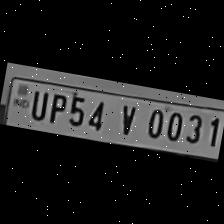0: (139, 104, 167, 140), (161, 106, 185, 142)
1: (200, 112, 223, 148)
3: (180, 108, 205, 146)
4: (82, 94, 111, 132)
5: (63, 91, 89, 128)
P: (43, 89, 67, 126)
U: (25, 86, 50, 122)
V: (108, 98, 142, 138)
